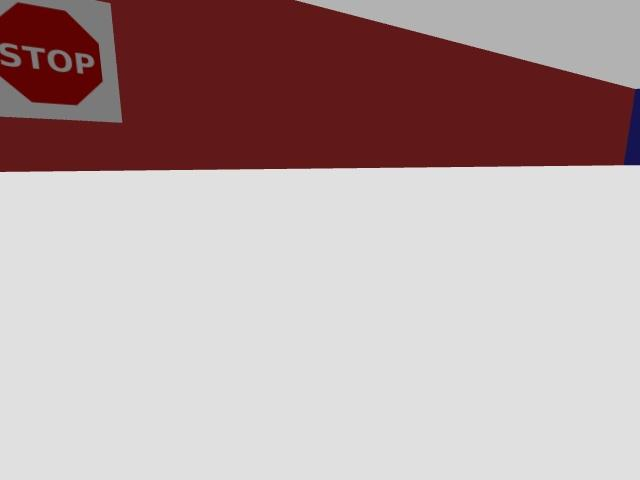stop: (0, 0, 121, 122)
